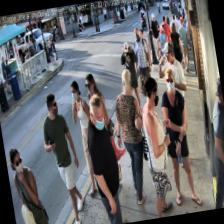person: (36, 91, 88, 224), (106, 68, 156, 206), (134, 76, 182, 218), (156, 66, 202, 209), (80, 92, 127, 224), (82, 70, 122, 184), (66, 79, 102, 195), (154, 40, 194, 134), (6, 144, 50, 224), (117, 40, 145, 117), (130, 26, 156, 101)
